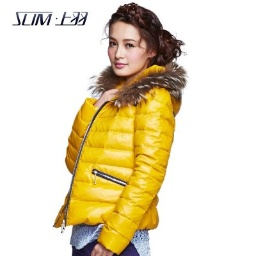face: (103, 2, 183, 75)
